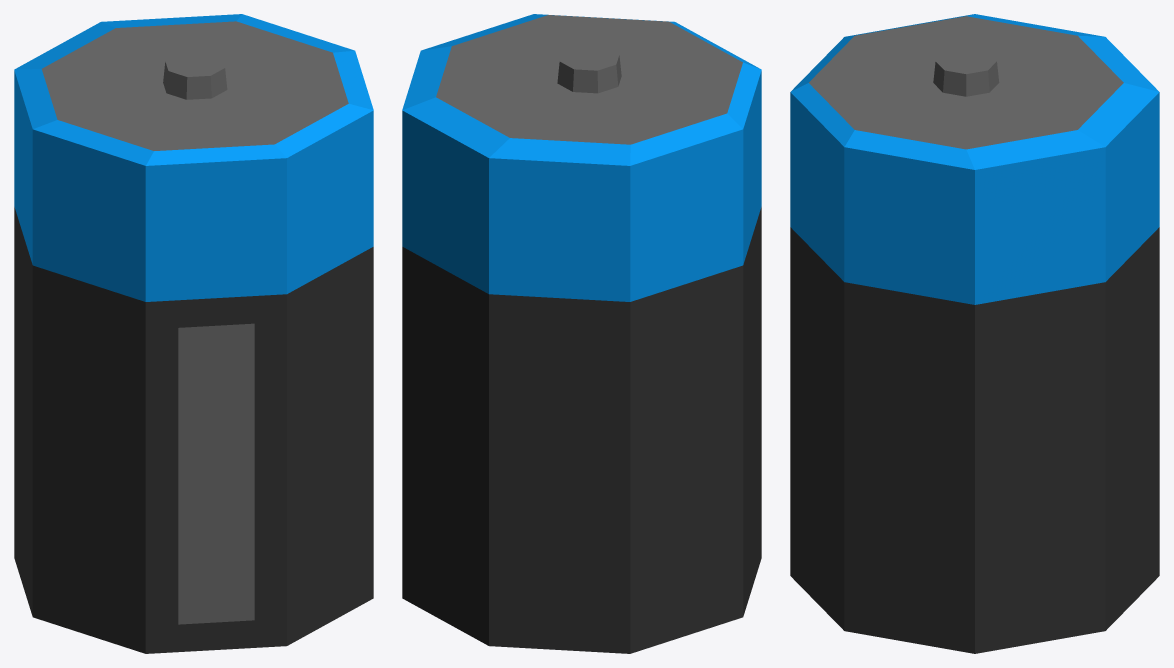
The model's file is EnergyMesh.fbx.
The picture shows the model from 3 angles, left to right: view 1: azimuth 30°, elevation 25°; view 2: azimuth 150°, elevation 25°; view 3: azimuth 270°, elevation 25°; orthographic projection.
Visible parts, largest first — view 1: Battery_Big; view 2: Battery_Big; view 3: Battery_Big.
Part boxes in pixels (x1,y1,x2,y2): Battery_Big: (14,14,373,653); Battery_Big: (402,14,761,653); Battery_Big: (790,14,1159,653).
Bounding box in the file's own units: 30.01 × 46.02 × 30.01.
